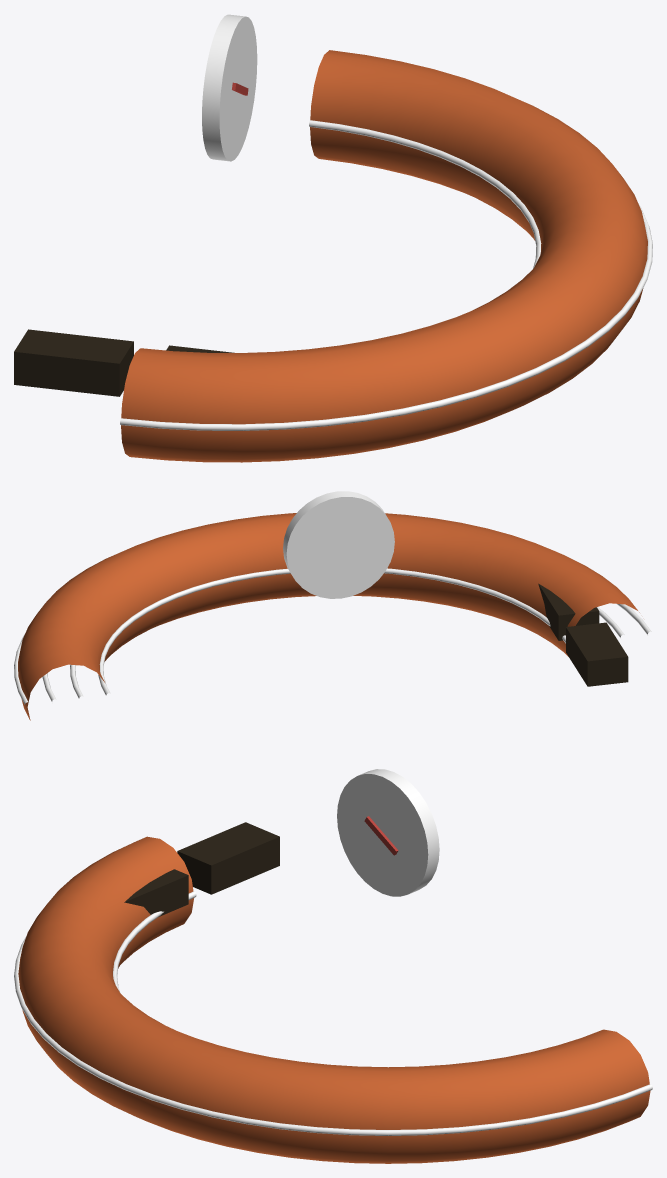
Rendered from track.glb.
The picture shows the model from 3 angles, top to bottom: view 1: azimuth 30°, elevation 25°; view 2: azimuth 150°, elevation 25°; view 3: azimuth 270°, elevation 25°; orthographic projection. The views are drawn at different scales.
Bounding box in the file's own units: 2.1 × 0.85 × 1.98.
